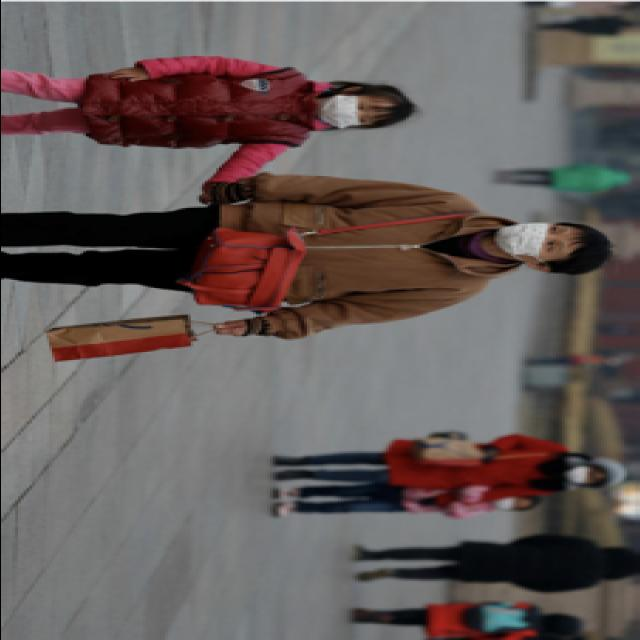with_mask: (501, 224, 572, 264), (317, 94, 377, 132), (566, 466, 604, 488), (502, 498, 530, 514)
